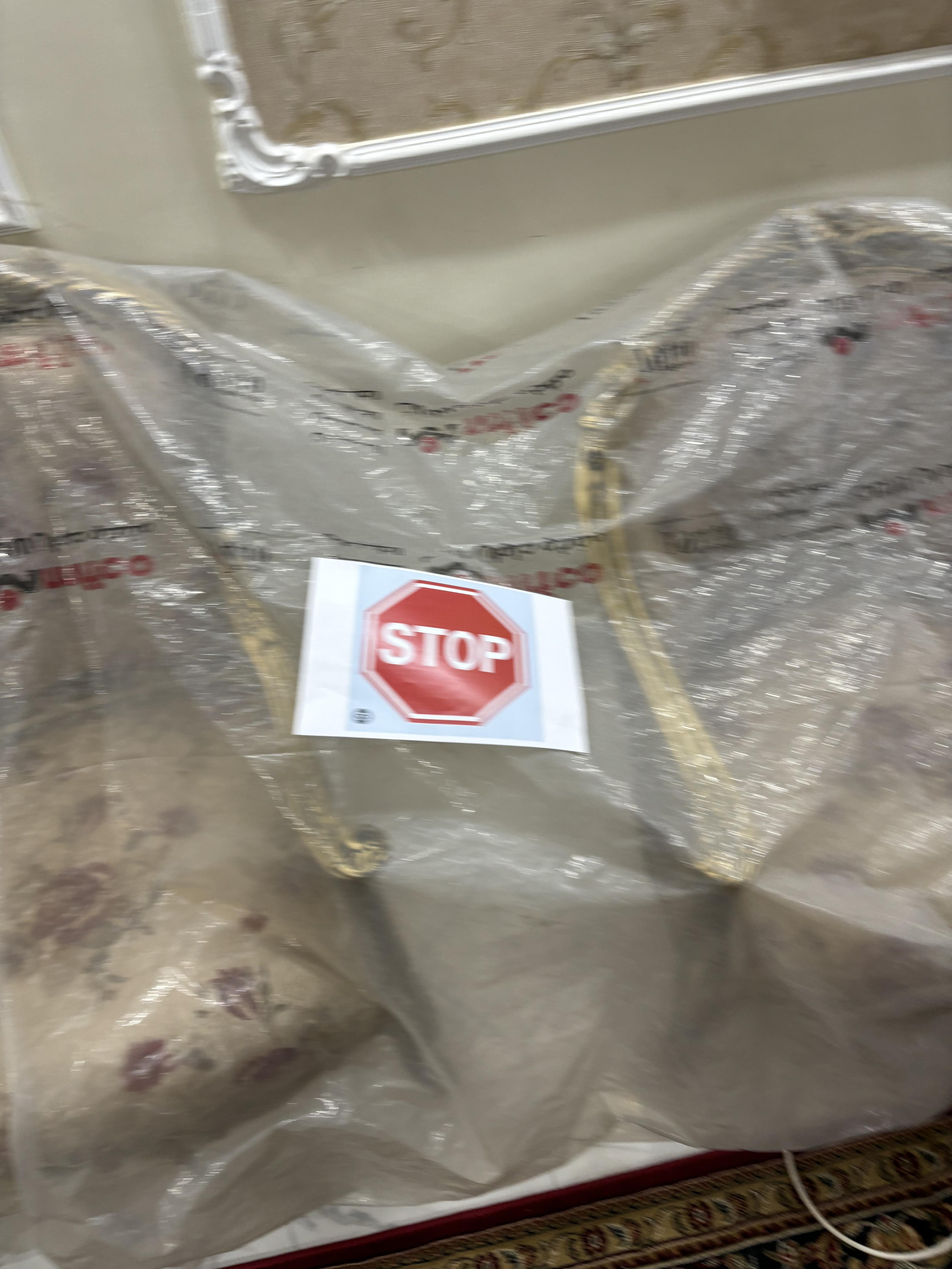Stop: (360, 574, 541, 735)
